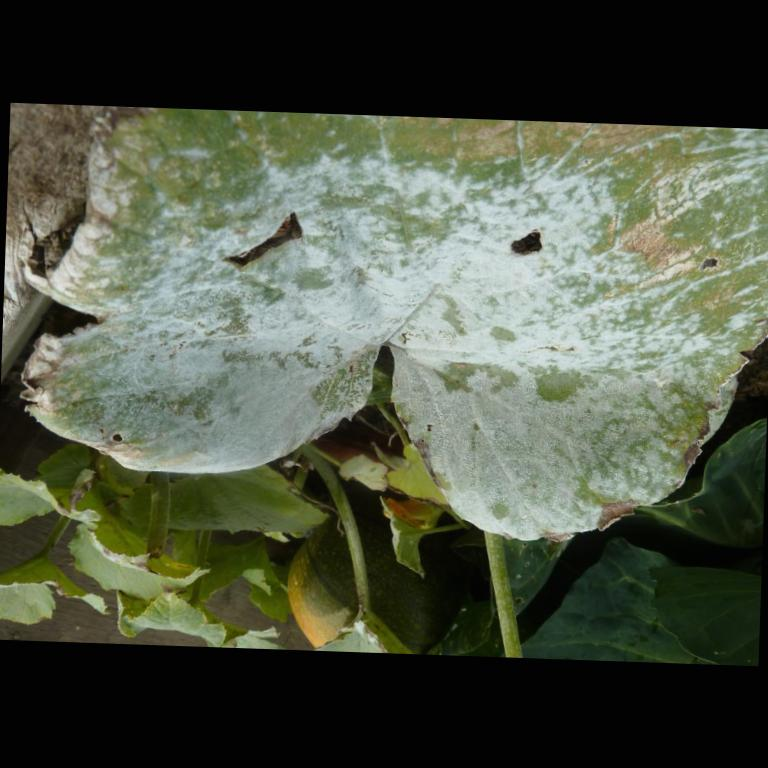powdery-mildew: (118, 284, 300, 436), (438, 353, 629, 493)
